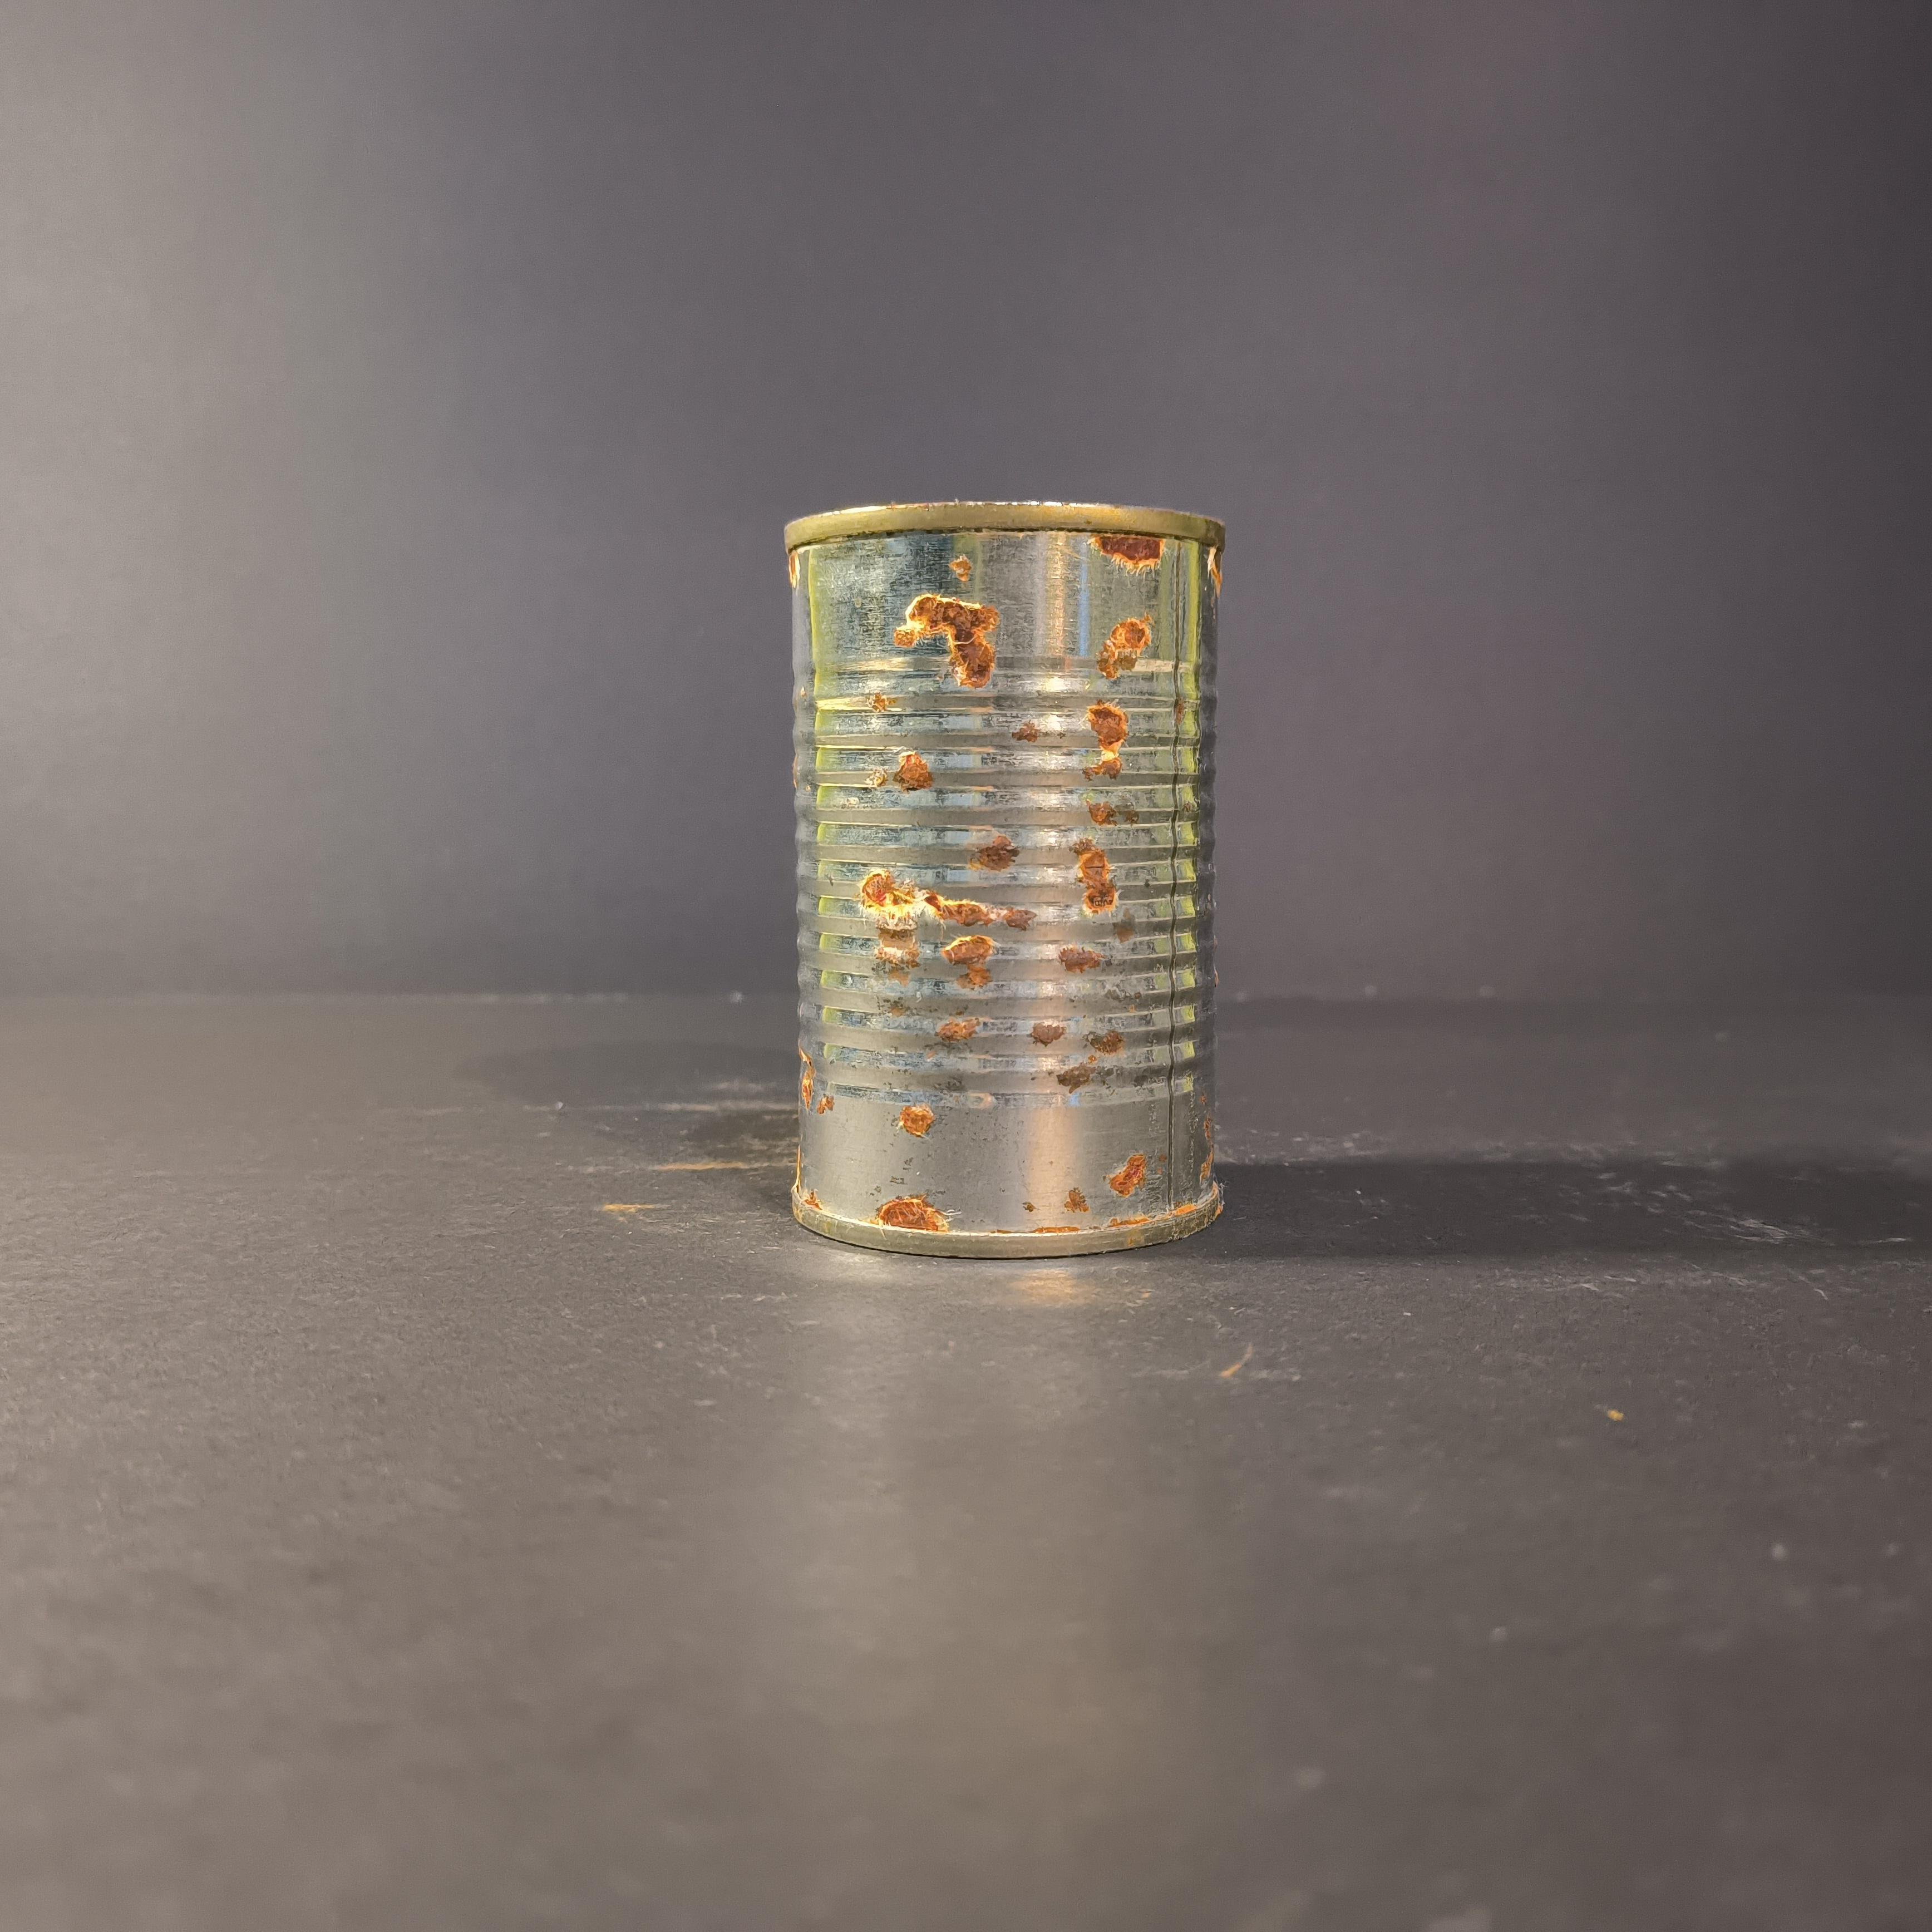Rusted: (768, 478, 1258, 1297)
